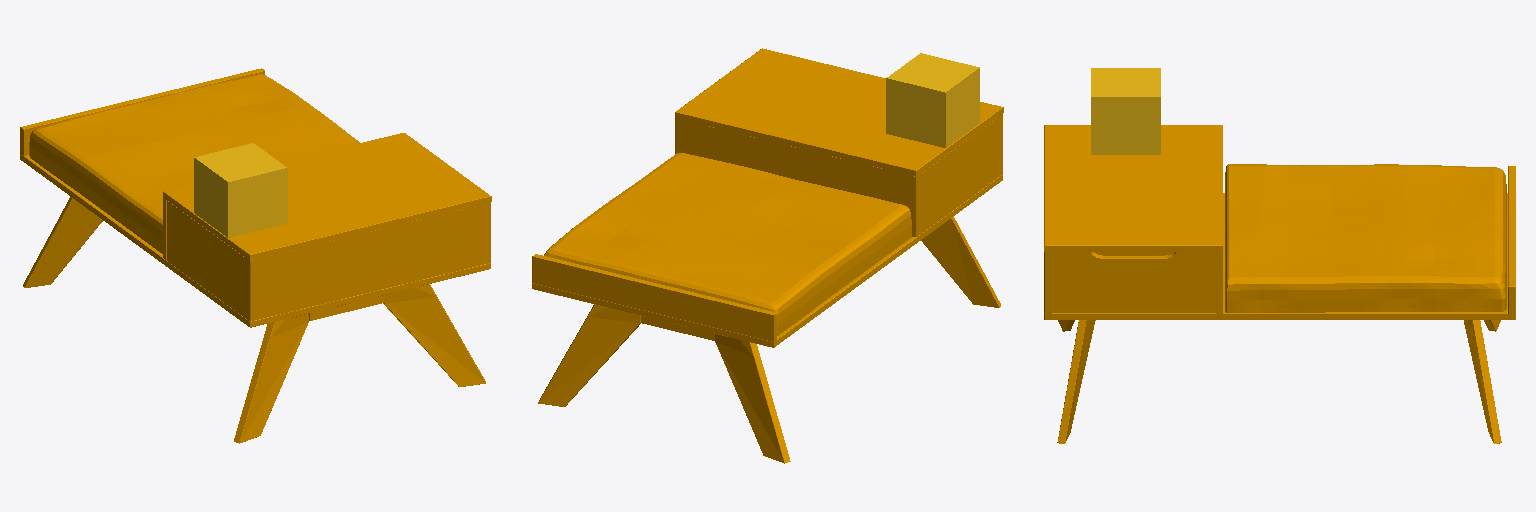
robot.urdf — bench.urdf:
<?xml version="1.0" ?>
<robot name="bench.urdf">
  <link name="benchBase">
    <contact>
      <lateral_friction value="1.0"/>
      <inertia_scaling value="3.0"/>
    </contact>
    <inertial>
      <origin rpy="0 0 0" xyz="0 0 0"/>
       <mass value="0"/>
       <inertia ixx="1" ixy="0" ixz="0" iyy="1" iyz="0" izz="1"/>
    </inertial>
    <visual>
      <origin rpy="0 0 0" xyz="0 0 0"/>
      <geometry>
        <mesh filename="bench.obj" scale="0.015 0.011 0.01"/>
      </geometry>
<!--      <material name="">-->
<!--        <color rgba="0.96 0.76 0.13 1.0"/>-->
<!--      </material>-->
    </visual>
    <visual>
      <origin rpy="0 0 0" xyz="-0.05 -0.06 0.105"/>
      <geometry>
        <box size="0.03 0.03 0.03"/>
      </geometry>
      <material name="">
        <color rgba="0.96 0.76 0.13 1.0"/>
      </material>
    </visual>
    <collision>
      <origin rpy="0 0 0" xyz="0 0 0"/>
      <geometry>
        <mesh filename="bench.obj" scale="0.015 0.015 0.01"/>
      </geometry>
    </collision>
  </link>

  <link name="benchLeft">
    <inertial>
      <origin rpy="0 0 0" xyz="0 0 0"/>
      <mass value="0"/>
      <inertia ixx="1" ixy="0" ixz="0" iyy="1" iyz="0" izz="1"/>
    </inertial>
<!--    <visual>-->
<!--      <origin rpy="0 0 0" xyz="0 0 0"/>-->
<!--      <geometry>-->
<!--        <box size="0.01 0.01 0.01"/>-->
<!--      </geometry>-->
<!--    </visual>-->
  </link>
  <joint name="base2left" type="fixed">
    <origin rpy="0 0 0" xyz="0 0.015 0.11"/>
    <parent link="benchBase"/>
    <child link="benchLeft"/>s
  </joint>

  <link name="benchRight">
    <inertial>
      <origin rpy="0 0 0" xyz="0 0 0"/>
      <mass value="0"/>
      <inertia ixx="1" ixy="0" ixz="0" iyy="1" iyz="0" izz="1"/>
    </inertial>
<!--    <visual>-->
<!--      <origin rpy="0 0 0" xyz="0 0 0"/>-->
<!--      <geometry>-->
<!--        <box size="0.01 0.01 0.01"/>-->
<!--      </geometry>-->
<!--    </visual>-->
  </link>
  <joint name="base2right" type="fixed">
    <origin rpy="0 0 0" xyz="0 0.075 0.11"/>
    <parent link="benchBase"/>
    <child link="benchRight"/>
  </joint>
</robot>

--- Facts derived from the render (not from the file) ---
Views: 3 orthographic renders of the robot side by side, from view 1: azimuth 30°, elevation 25°; view 2: azimuth 150°, elevation 25°; view 3: azimuth 270°, elevation 25°.
Robot: bench.urdf — 3 links, 2 joints (2 fixed); root link benchBase; default pose: every joint at zero.
Links seen in each view (by area): view 1: benchBase; view 2: benchBase; view 3: benchBase.
Boxes of the visible links, x1,y1,x2,y2 form: benchBase: (20,68,491,443); benchBase: (532,48,1003,463); benchBase: (1044,68,1515,443).
Size in the robot's own frame: 0.1272 by 0.2011 by 0.12 metres.
1 mesh visuals loaded from 1 distinct referenced files (1 OBJ).